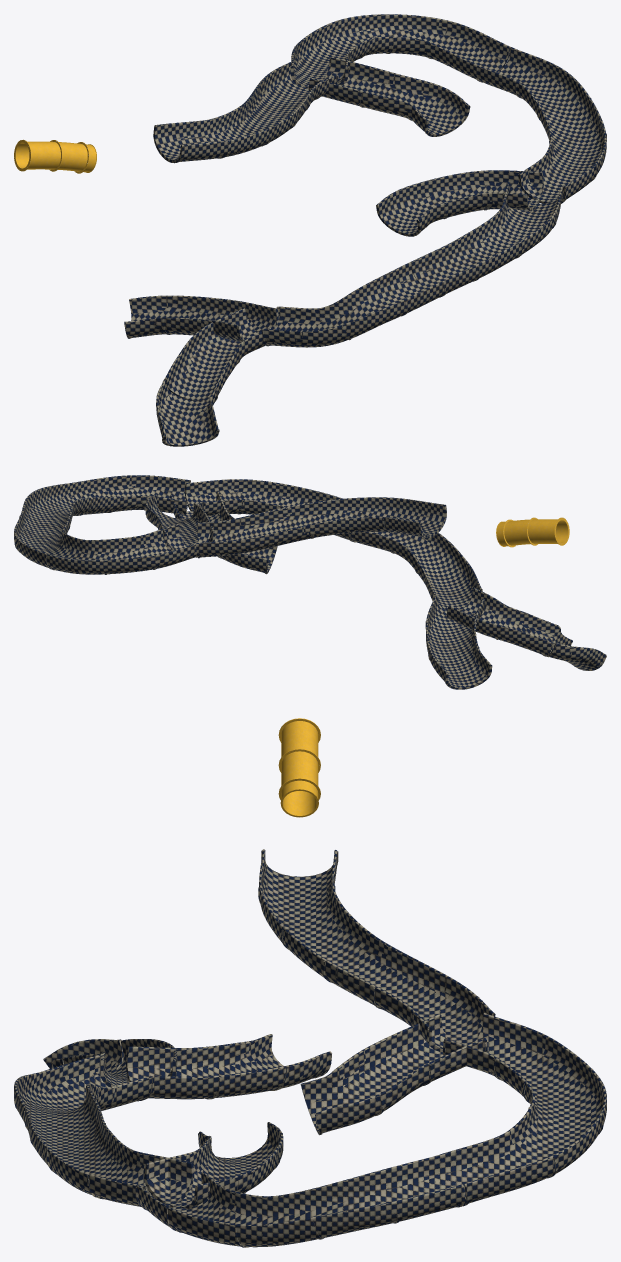
The model's file is inseguimento_B_tubi.glb.
3 views of the same model, one above another, from view 1: azimuth 30°, elevation 25°; view 2: azimuth 150°, elevation 25°; view 3: azimuth 270°, elevation 25° (orthographic). The views are drawn at different scales.
Parts seen in each view (by area): view 1: ins_B_canali, ins_B_tubo_0; view 2: ins_B_canali, ins_B_tubo_0; view 3: ins_B_canali, ins_B_tubo_0.
Boxes of the visible parts, x1=… form: ins_B_canali: x1=124, y1=14, x2=606, y2=446; ins_B_tubo_0: x1=14, y1=139, x2=96, y2=173; ins_B_canali: x1=14, y1=475, x2=606, y2=689; ins_B_tubo_0: x1=496, y1=517, x2=569, y2=547; ins_B_canali: x1=14, y1=849, x2=606, y2=1247; ins_B_tubo_0: x1=278, y1=718, x2=320, y2=817.
Size of the model in its own units: 41.04 by 17.32 by 27.5.
Materials: 4 (4 with a texture image).
